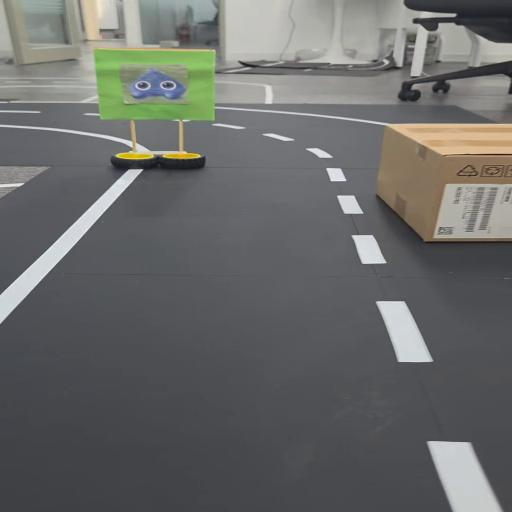Box: (371, 119, 512, 249)
Sign_B: (88, 39, 230, 171)
